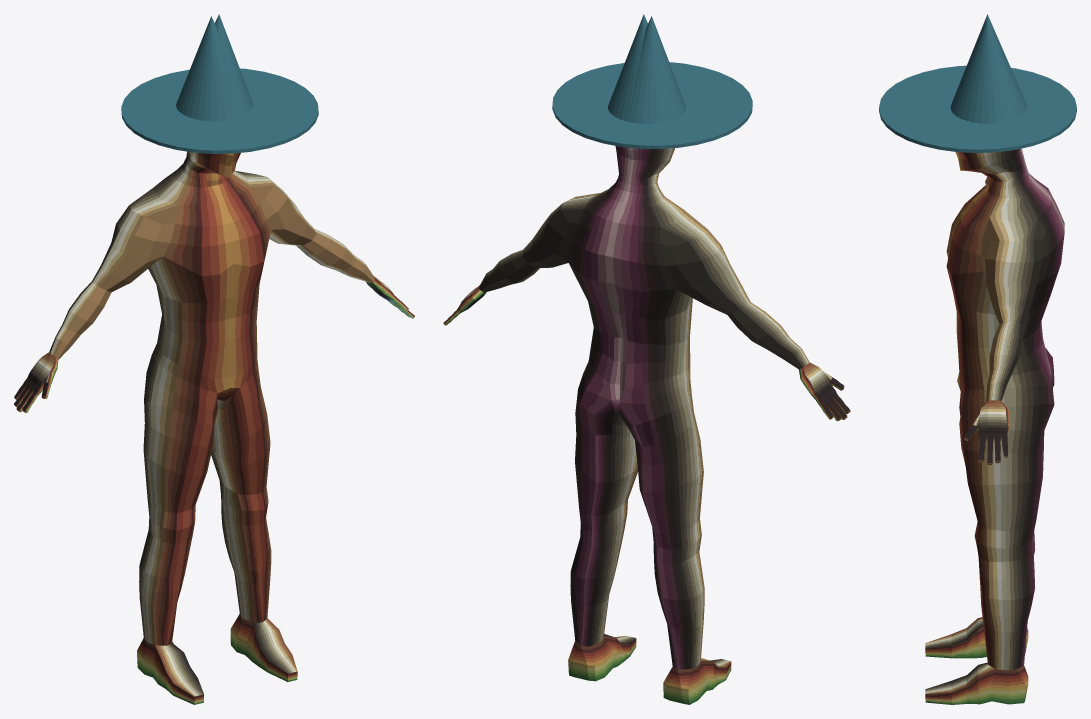
The model's file is character.fbx.
3 renders of one model, left to right at view 1: azimuth 30°, elevation 25°; view 2: azimuth 150°, elevation 25°; view 3: azimuth 270°, elevation 25°, orthographic.
Parts seen in each view (by area): view 1: Cylinder; view 2: Cylinder; view 3: Cylinder.
Boxes of the visible parts, <box> form: Cylinder: <box>14,14,414,704</box>; Cylinder: <box>443,14,850,704</box>; Cylinder: <box>879,14,1076,704</box>.
Size of the model in its own units: 113 by 180 by 48.86.
Materials: 1 (1 with a texture image).
